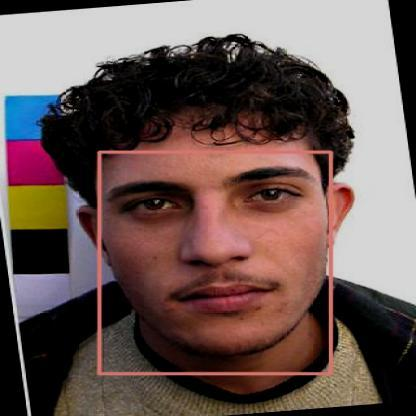without_mask: (99, 152, 330, 373)
